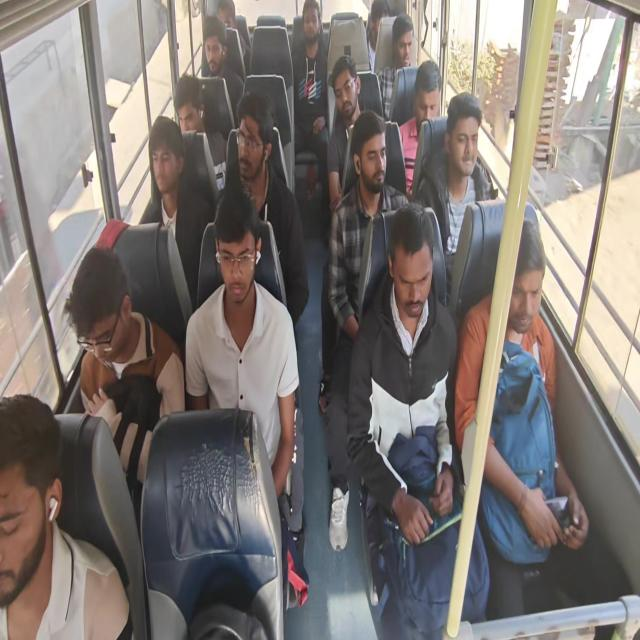person: (346, 201, 490, 638), (454, 216, 590, 618), (184, 178, 308, 609), (319, 109, 411, 552), (0, 393, 133, 639), (63, 245, 185, 502), (222, 90, 309, 329), (138, 115, 212, 309), (416, 91, 493, 275), (292, 1, 329, 202), (173, 74, 227, 190), (397, 60, 442, 196), (326, 54, 362, 214), (200, 15, 244, 124), (376, 12, 414, 120), (217, 0, 251, 74), (365, 0, 390, 72)
